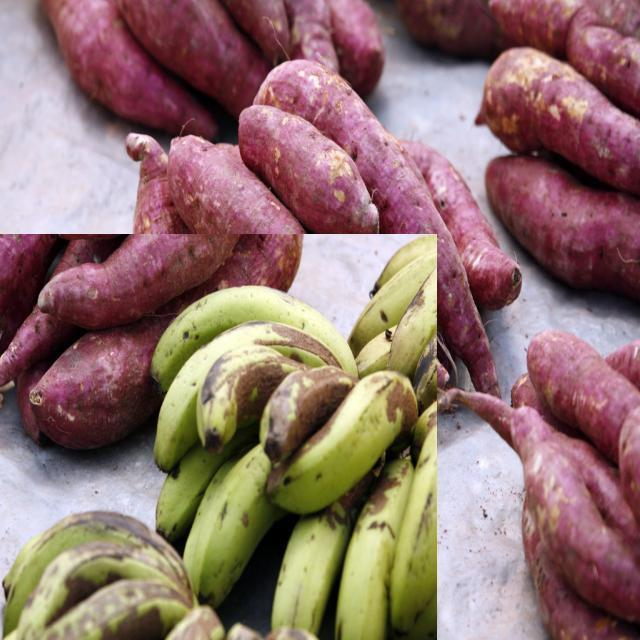Banana: (156, 286, 437, 640), (0, 507, 210, 640)
